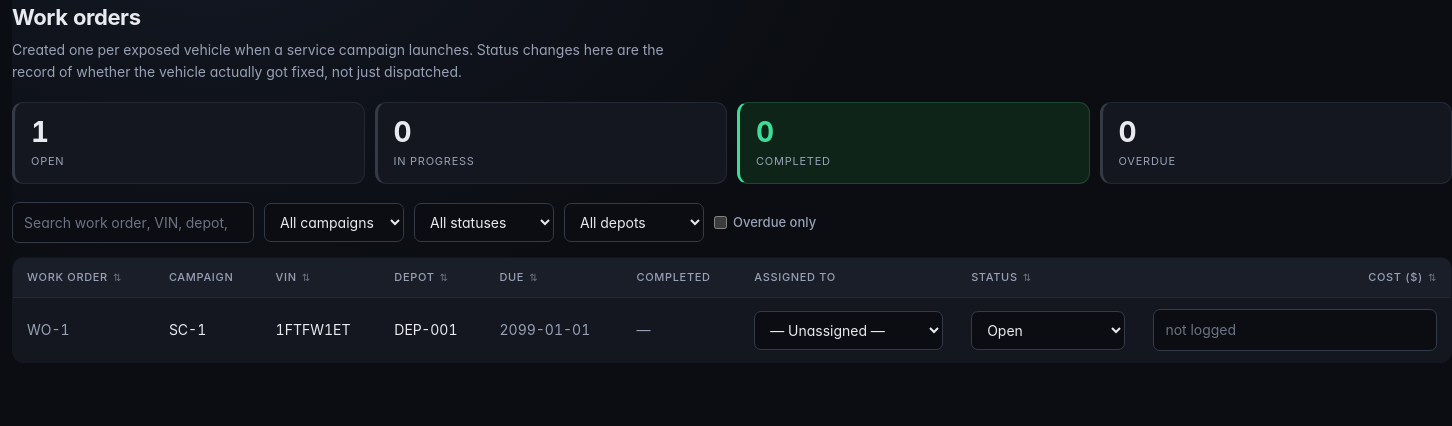
Test: WorkOrders › shows the update error inline when a status change fails
This screenshot has width=1452, height=426.
Expected: the text "WO-1" is shown, x1=12 y1=298 x2=155 y2=363
Select "Completed" in the 5th dropdown at (1048, 330), box x1=971 y1=311 x2=1125 y2=350
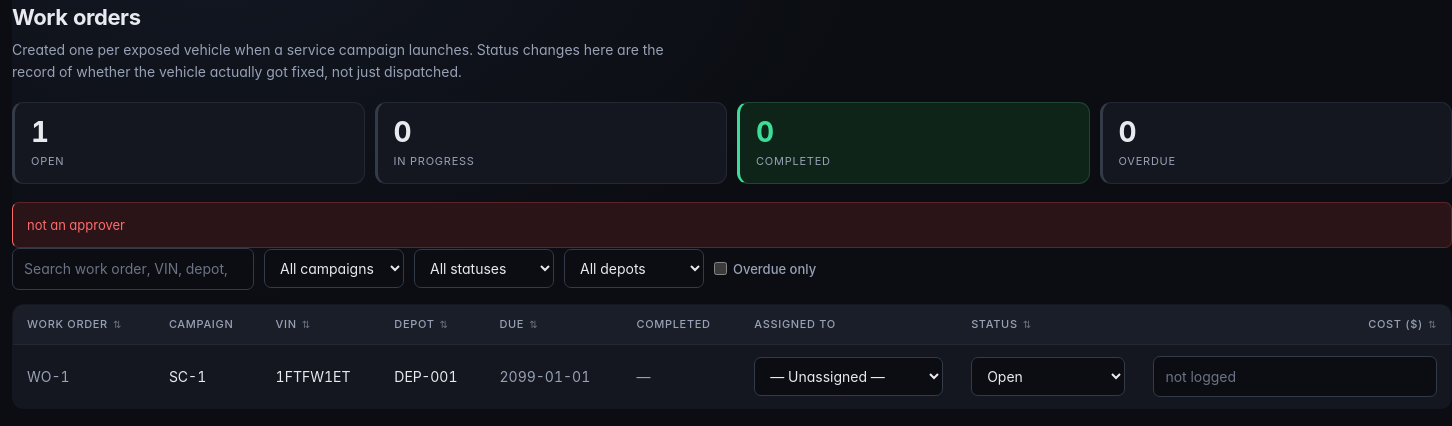
Result: the text "not an approver" is shown at x1=12 y1=202 x2=1451 y2=248
